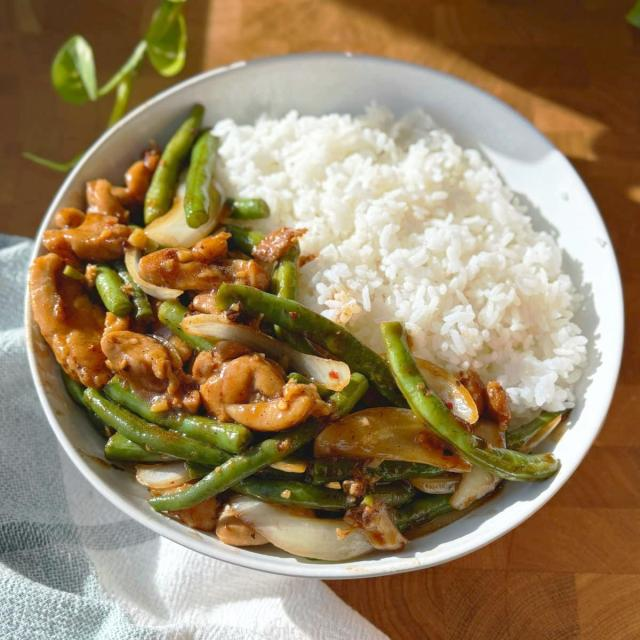String Bean Chicken Breast: (28, 104, 565, 562)
rice: (215, 90, 588, 410)
